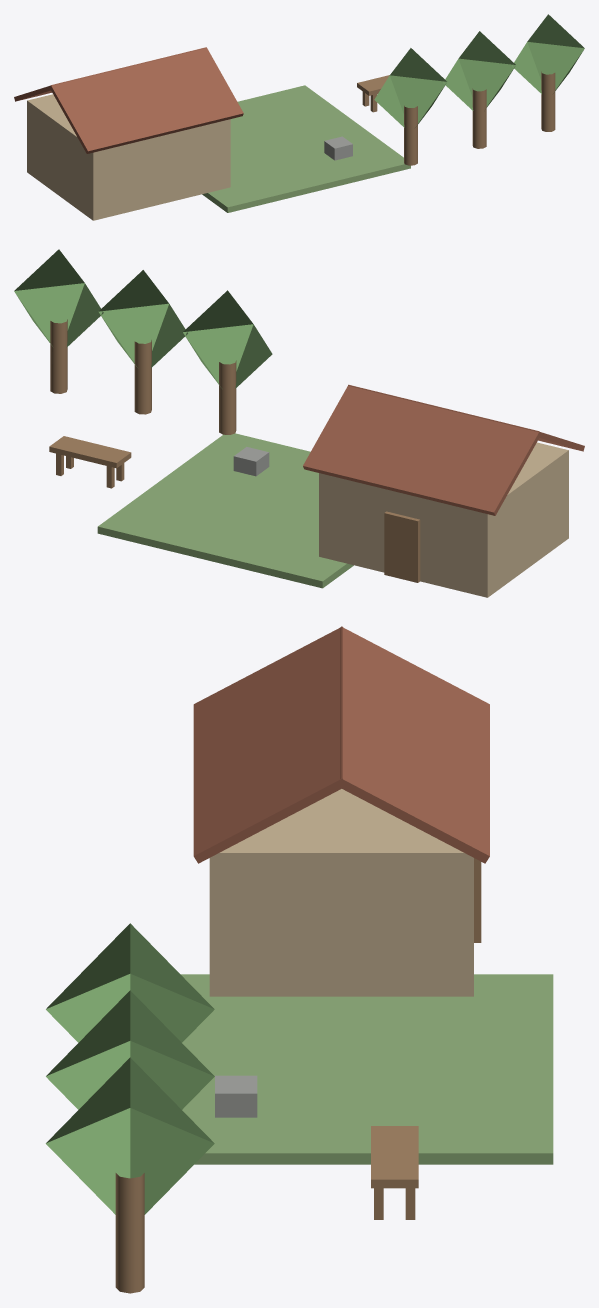
Rendered from representative_asset_set.gltf.
3 renders of one model, top to bottom at view 1: azimuth 30°, elevation 25°; view 2: azimuth 150°, elevation 25°; view 3: azimuth 270°, elevation 25°, orthographic. The views are drawn at different scales.
Parts seen in each view (by area): view 1: asset.building.house.body, asset.terrain.patch, asset.building.house.roof.right, asset.environment.tree.3.canopy, asset.environment.tree.2.canopy, asset.environment.tree.1.canopy, asset.environment.tree.2.trunk, asset.environment.tree.3.trunk, asset.environment.tree.1.trunk, asset.terrain.stone, asset.building.house.roof.left, asset.interior.workbench.top; view 2: asset.terrain.patch, asset.building.house.body, asset.building.house.roof.left, asset.environment.tree.3.canopy, asset.environment.tree.1.canopy, asset.environment.tree.2.canopy, asset.building.house.door, asset.interior.workbench.top, asset.environment.tree.2.trunk, asset.environment.tree.3.trunk, asset.environment.tree.1.trunk, asset.terrain.stone (+1 smaller); view 3: asset.terrain.patch, asset.building.house.body, asset.building.house.roof.right, asset.building.house.roof.left, asset.environment.tree.3.canopy, asset.environment.tree.2.canopy, asset.environment.tree.1.canopy, asset.environment.tree.3.trunk, asset.interior.workbench.top, asset.terrain.stone.
Boxes of the visible parts, left/top/right/bottom form: asset.building.house.body: left=27, top=94, right=230, bottom=220; asset.terrain.patch: left=202, top=85, right=410, bottom=212; asset.building.house.roof.right: left=50, top=47, right=243, bottom=153; asset.environment.tree.3.canopy: left=512, top=14, right=584, bottom=93; asset.environment.tree.2.canopy: left=443, top=31, right=515, bottom=110; asset.environment.tree.1.canopy: left=374, top=48, right=447, bottom=127; asset.environment.tree.2.trunk: left=472, top=88, right=486, bottom=148; asset.environment.tree.3.trunk: left=541, top=71, right=555, bottom=131; asset.environment.tree.1.trunk: left=404, top=105, right=417, bottom=165; asset.terrain.stone: left=324, top=136, right=352, bottom=160; asset.building.house.roof.left: left=14, top=47, right=206, bottom=101; asset.interior.workbench.top: left=357, top=75, right=389, bottom=95; asset.terrain.patch: left=97, top=433, right=353, bottom=588; asset.building.house.body: left=319, top=442, right=568, bottom=597; asset.building.house.roof.left: left=303, top=384, right=540, bottom=515; asset.environment.tree.3.canopy: left=14, top=249, right=103, bottom=347; asset.environment.tree.1.canopy: left=183, top=290, right=272, bottom=388; asset.environment.tree.2.canopy: left=98, top=270, right=187, bottom=367; asset.building.house.door: left=384, top=511, right=420, bottom=582; asset.interior.workbench.top: left=49, top=436, right=131, bottom=468; asset.environment.tree.2.trunk: left=134, top=340, right=151, bottom=414; asset.environment.tree.3.trunk: left=50, top=319, right=67, bottom=393; asset.environment.tree.1.trunk: left=219, top=360, right=236, bottom=434; asset.terrain.stone: left=233, top=447, right=269, bottom=476; asset.terrain.patch: left=181, top=974, right=553, bottom=1164; asset.building.house.body: left=209, top=789, right=473, bottom=996; asset.building.house.roof.right: left=193, top=626, right=345, bottom=863; asset.building.house.roof.left: left=336, top=626, right=489, bottom=863; asset.environment.tree.3.canopy: left=45, top=1057, right=214, bottom=1214; asset.environment.tree.2.canopy: left=46, top=990, right=214, bottom=1109; asset.environment.tree.1.canopy: left=46, top=923, right=214, bottom=1042; asset.environment.tree.3.trunk: left=115, top=1173, right=144, bottom=1293; asset.interior.workbench.top: left=371, top=1126, right=418, bottom=1188; asset.terrain.stone: left=215, top=1075, right=257, bottom=1117.
Bounding box in the file's own units: 21 × 5.04 × 9.6.
